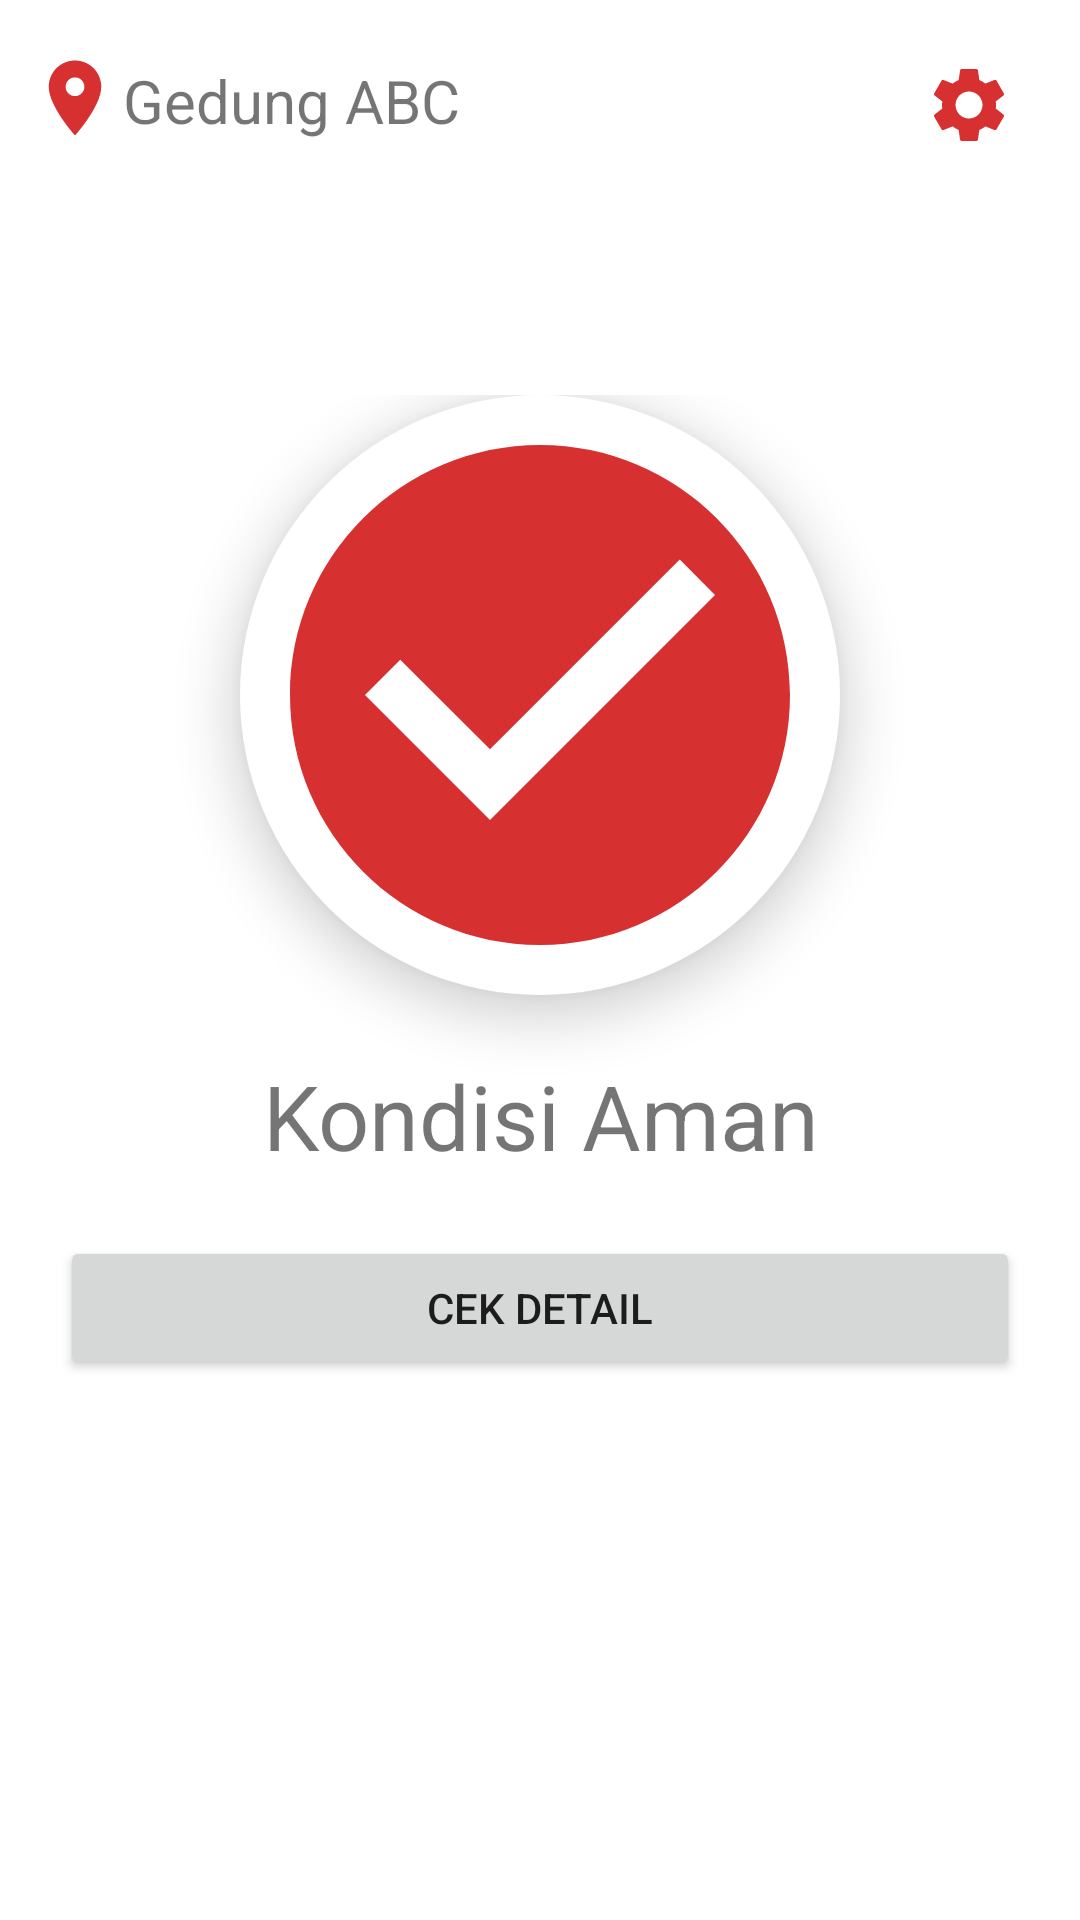

Locate icon controls on the screen. Image size 1080px x 1920px, boxes as (x1, y1, x2, y2).
location on: (48, 60, 102, 135)
settings: (934, 69, 1004, 141)
